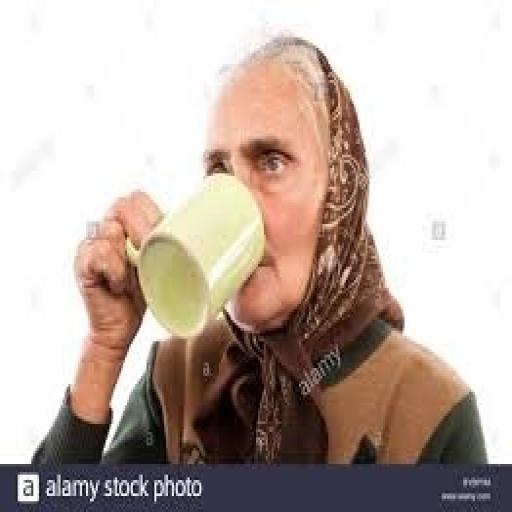drinking: (121, 170, 266, 338)
